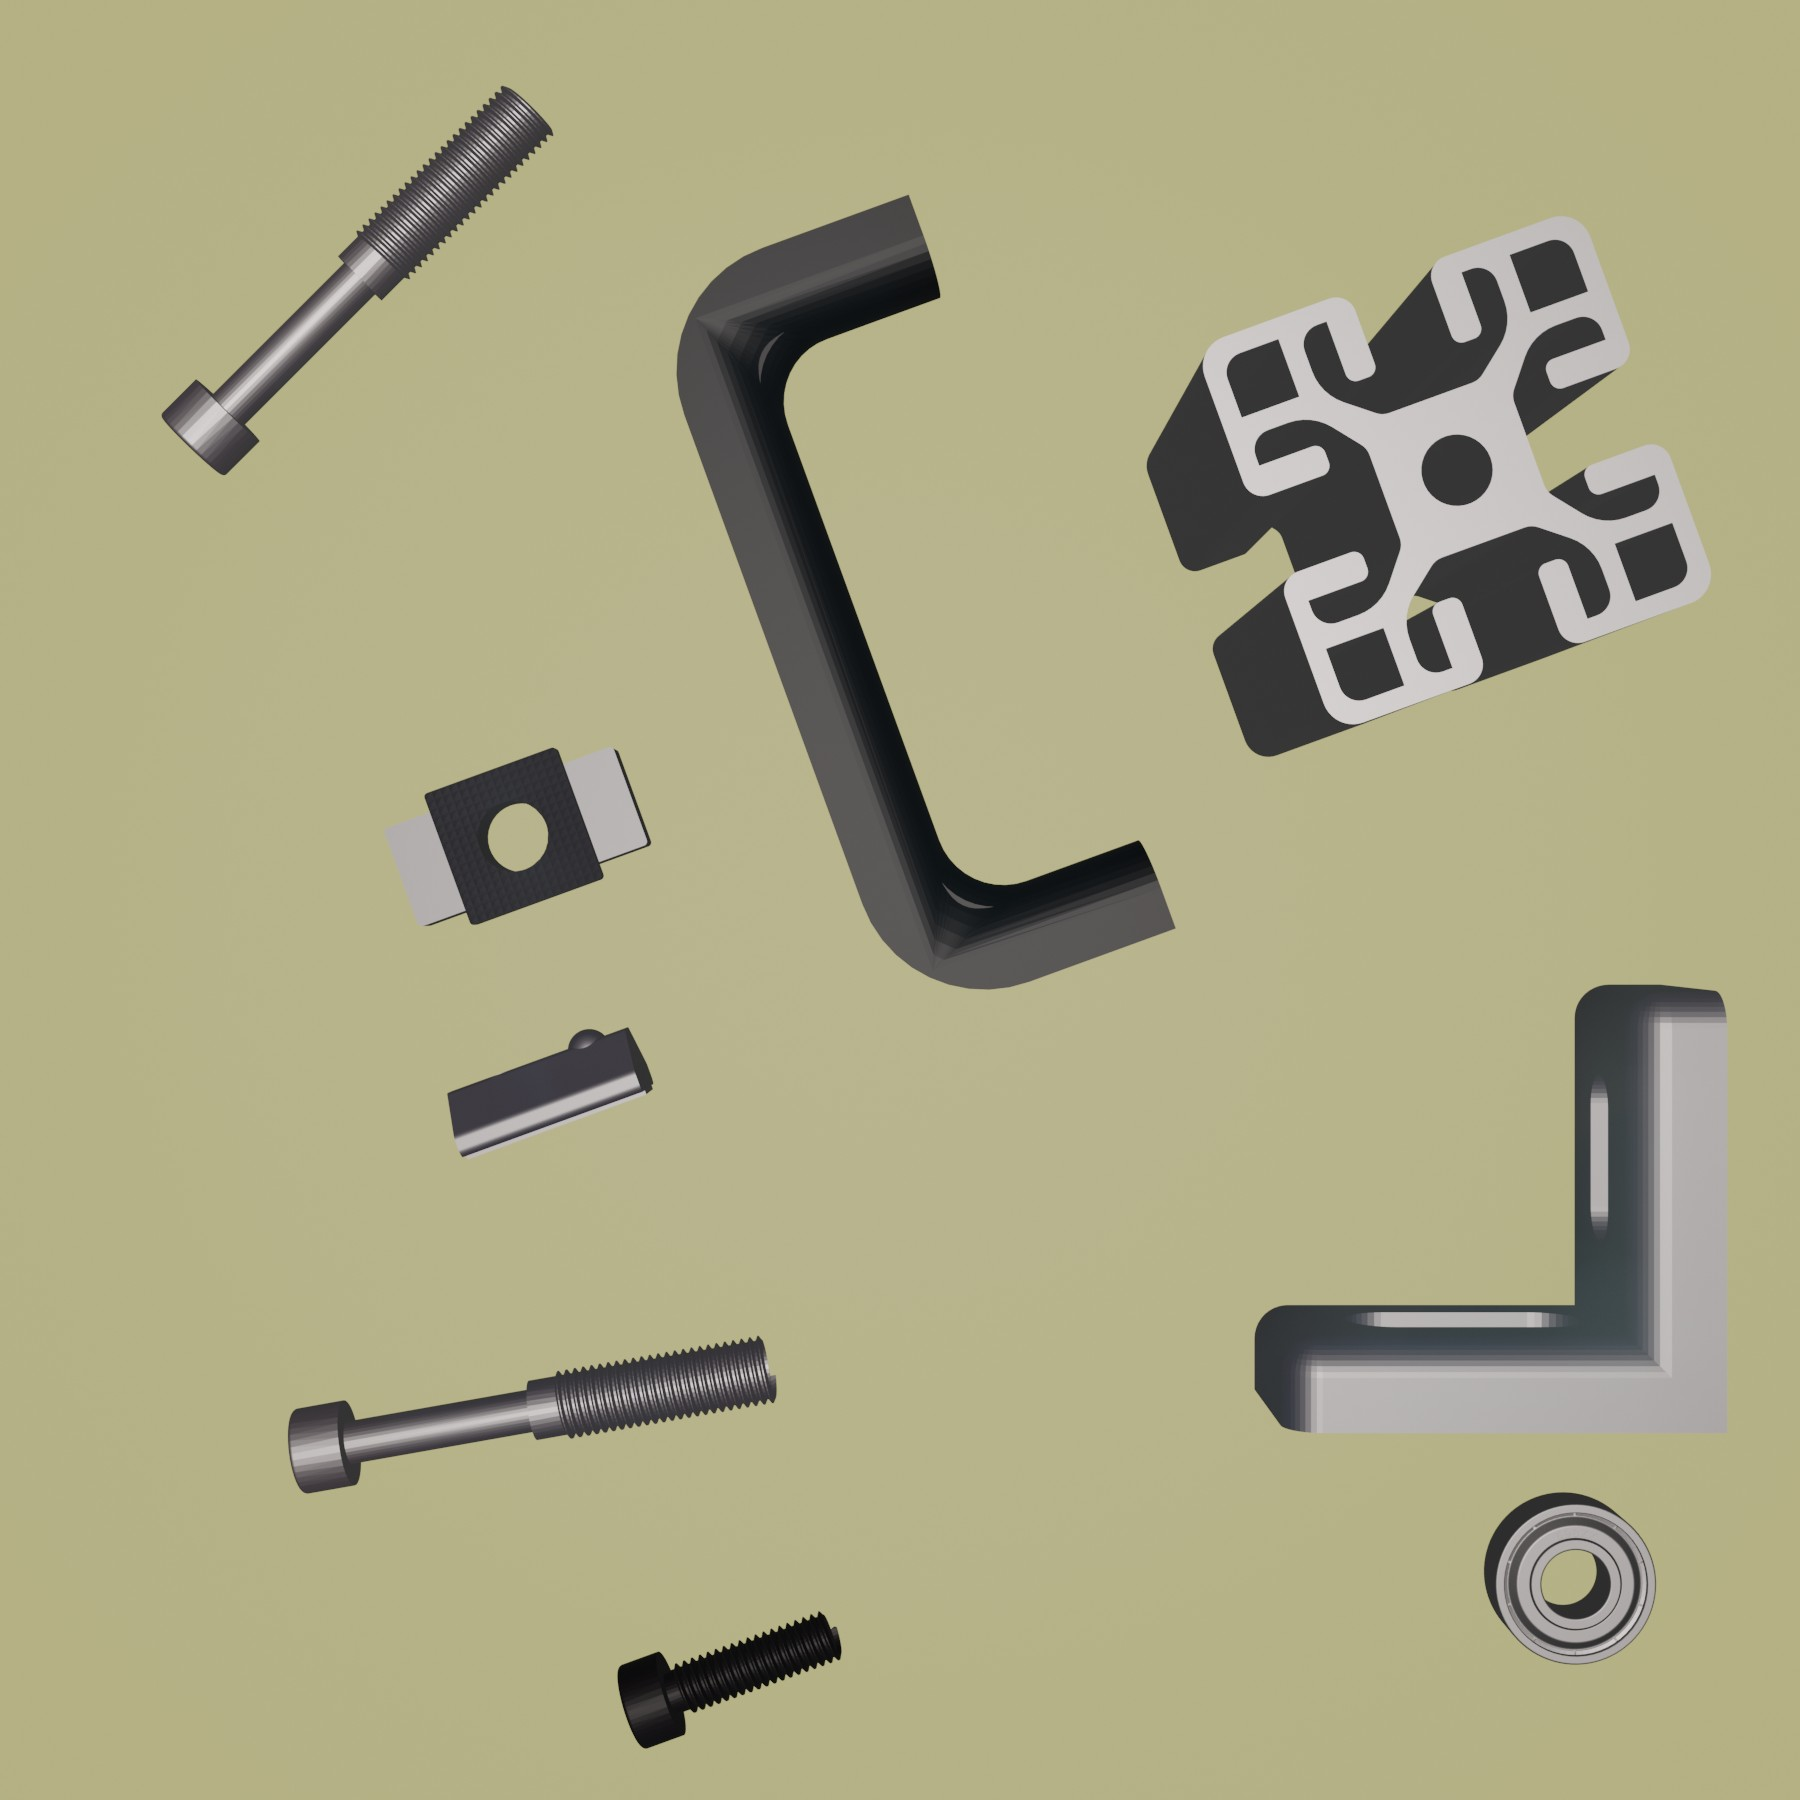Aluminium Extension: (1146, 216, 1713, 758)
Ball Bearing: (1479, 1492, 1658, 1668)
Multiwinkel: (1251, 981, 1736, 1439)
Pull Handle: (674, 193, 1177, 991)
Shoulder Socket Head Cap Screw: (162, 81, 555, 478), (287, 1330, 781, 1497)
Socket Head Cap Screw: (616, 1604, 846, 1751)
T Nut Square: (382, 742, 656, 931)
T Spring Nut: (443, 1024, 656, 1162)
